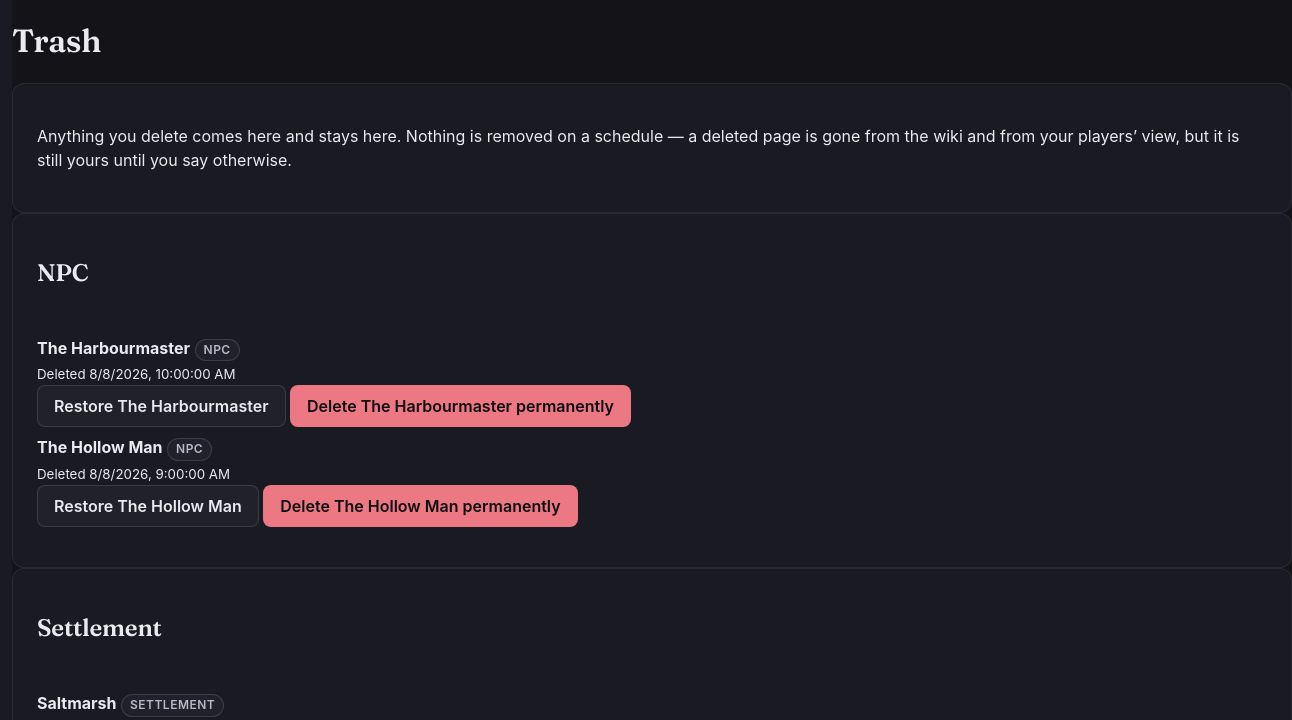
Scenario: TrashPage › groups deleted rows by kind and restores one
Expected: the text "The Harbourmaster" is shown, [37,338,190,358]
Click the button "Restore The Harbourmaster": (161, 406) [37,386,286,428]
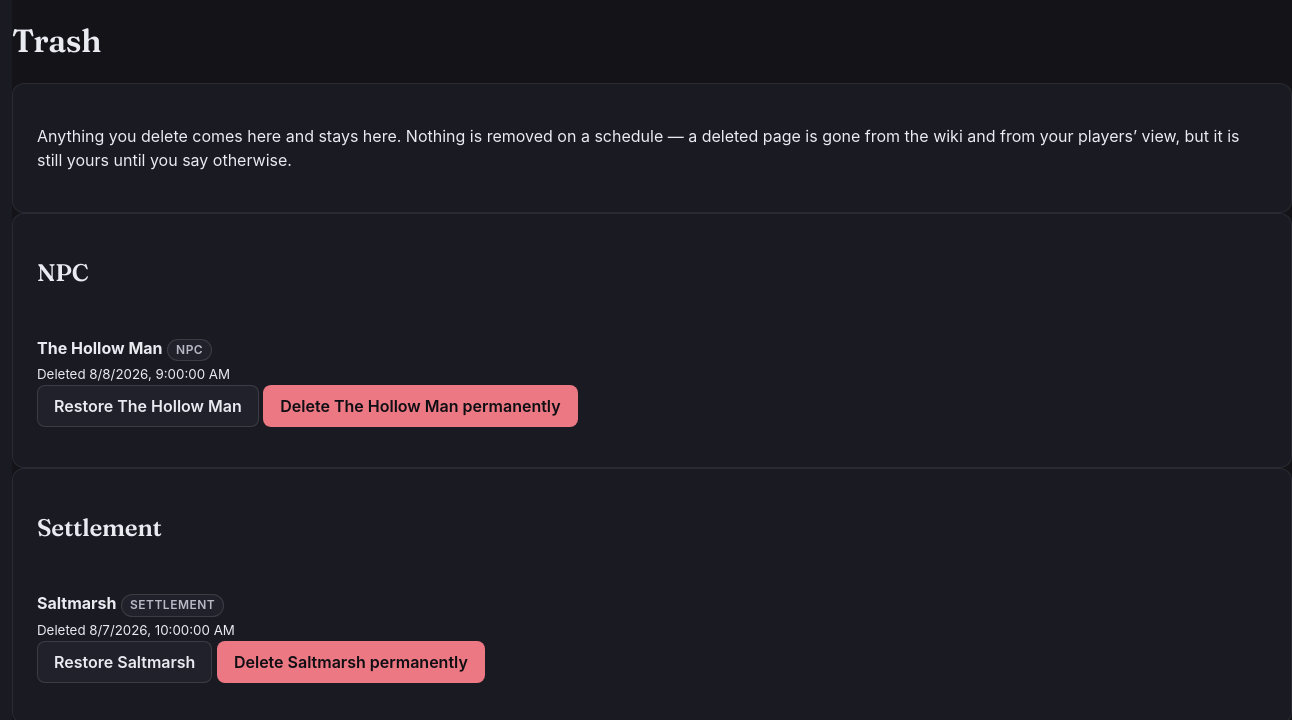
Expected: the text "Saltmarsh" is shown, [37,593,116,613]
Result: the text "The Harbourmaster" is gone
